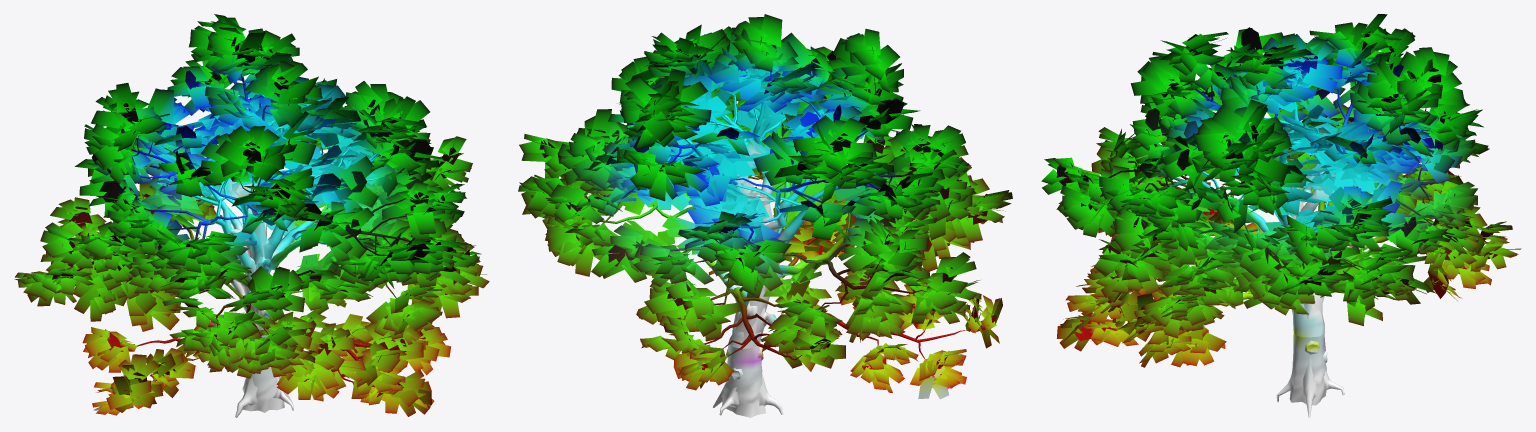
File: arden_forest_oak_02_green.fbx
The picture shows the model from 3 angles, left to right: view 1: azimuth 30°, elevation 25°; view 2: azimuth 150°, elevation 25°; view 3: azimuth 270°, elevation 25°; orthographic projection. The views are drawn at different scales.
Parts seen in each view (by area): view 1: arden_forest_oak_02_green_leaves, arden_forest_oak_02_green_bark; view 2: arden_forest_oak_02_green_leaves, arden_forest_oak_02_green_bark; view 3: arden_forest_oak_02_green_leaves, arden_forest_oak_02_green_bark.
Boxes of the visible parts, <box> form: arden_forest_oak_02_green_leaves: <box>14,14,489,416</box>; arden_forest_oak_02_green_bark: <box>77,74,412,417</box>; arden_forest_oak_02_green_leaves: <box>518,14,1012,399</box>; arden_forest_oak_02_green_bark: <box>584,72,966,417</box>; arden_forest_oak_02_green_leaves: <box>1041,14,1521,367</box>; arden_forest_oak_02_green_bark: <box>1095,76,1444,417</box>.
Size of the model in its own units: 24.01 by 22.2 by 18.61.
